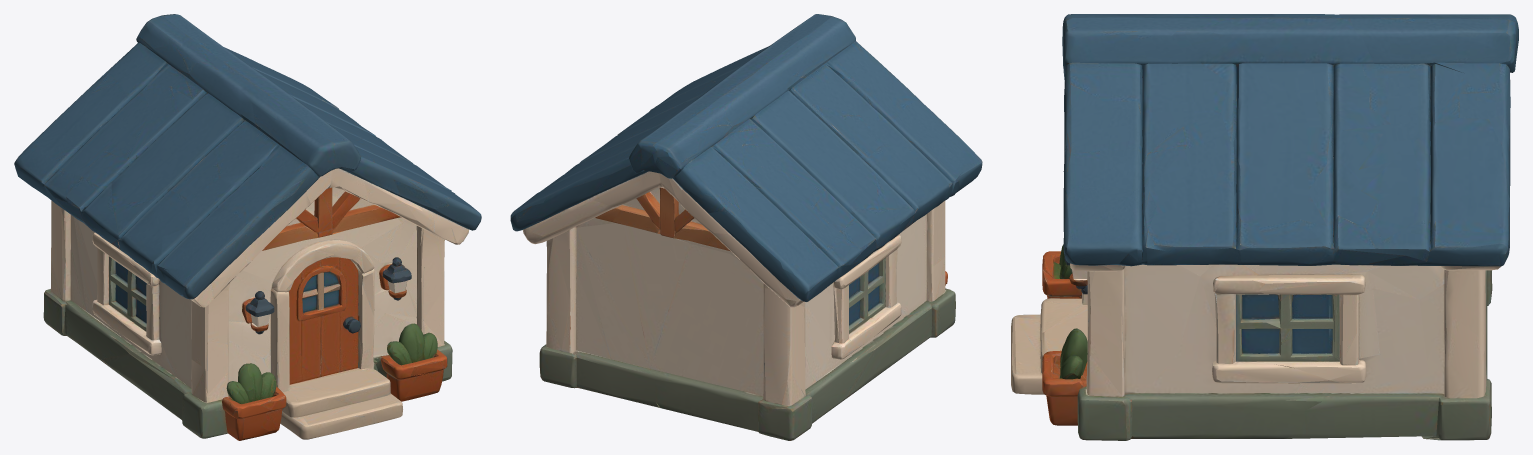
File: common-buildings-townhouse-entrance-module-compact-normal.glb
The picture shows the model from 3 angles, left to right: view 1: azimuth 30°, elevation 25°; view 2: azimuth 150°, elevation 25°; view 3: azimuth 270°, elevation 25°; orthographic projection. The views are drawn at different scales.
Visible parts, largest first — view 1: Mesh_0; view 2: Mesh_0; view 3: Mesh_0.
Boxes of the visible parts, x1,y1,x2,y2 form: Mesh_0: (14, 14, 481, 440); Mesh_0: (510, 14, 982, 440); Mesh_0: (1011, 14, 1518, 440).
Size of the model in its own units: 2.6 by 2.25 by 3.
Materials: 1 (1 with a texture image).
